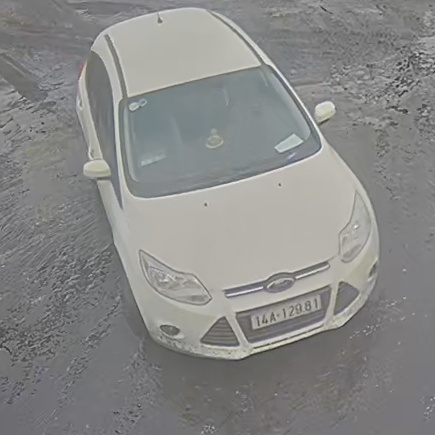vehicle plate: (251, 293, 324, 336)
